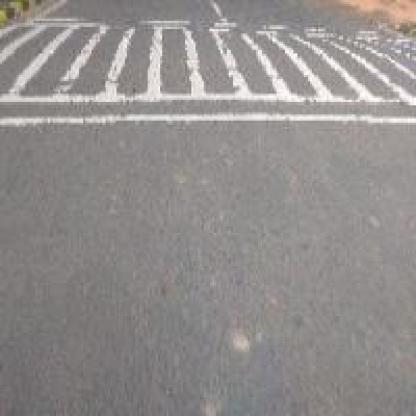Speed Bump: (4, 16, 408, 124)
